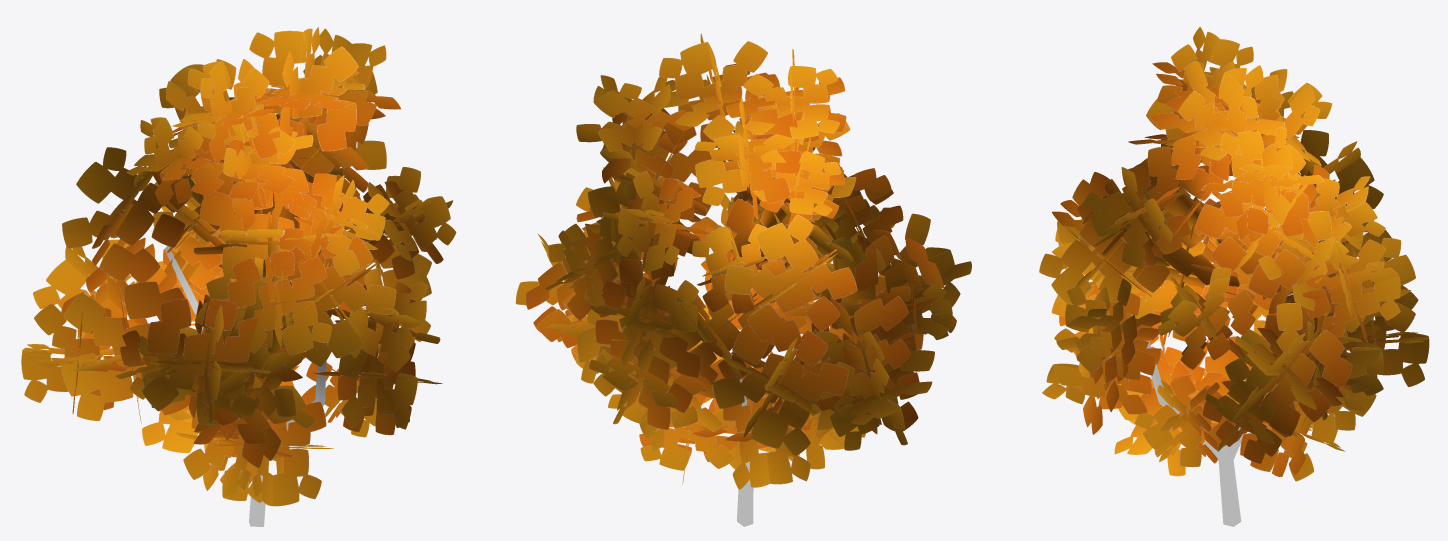
The model's file is model_bush_02b.fbx.
The picture shows the model from 3 angles, left to right: view 1: azimuth 30°, elevation 25°; view 2: azimuth 150°, elevation 25°; view 3: azimuth 270°, elevation 25°; orthographic projection. The views are drawn at different scales.
Parts seen in each view (by area): view 1: TSP_Bush_02B; view 2: TSP_Bush_02B; view 3: TSP_Bush_02B.
Part boxes in pixels (box(x1,y1,x2,y2)): TSP_Bush_02B: box(21, 27, 456, 526); TSP_Bush_02B: box(515, 33, 971, 526); TSP_Bush_02B: box(1039, 27, 1429, 526).
Bounding box in the file's own units: 1.76 × 1.89 × 1.46.
